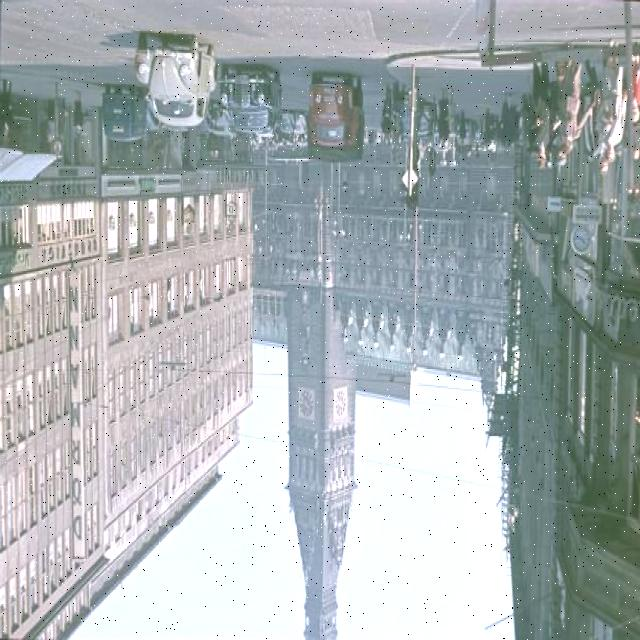car: (135, 32, 213, 127), (310, 72, 365, 154), (222, 66, 278, 143)
